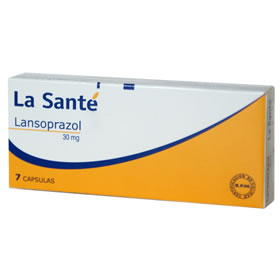LaSante: (8, 79, 266, 207)
